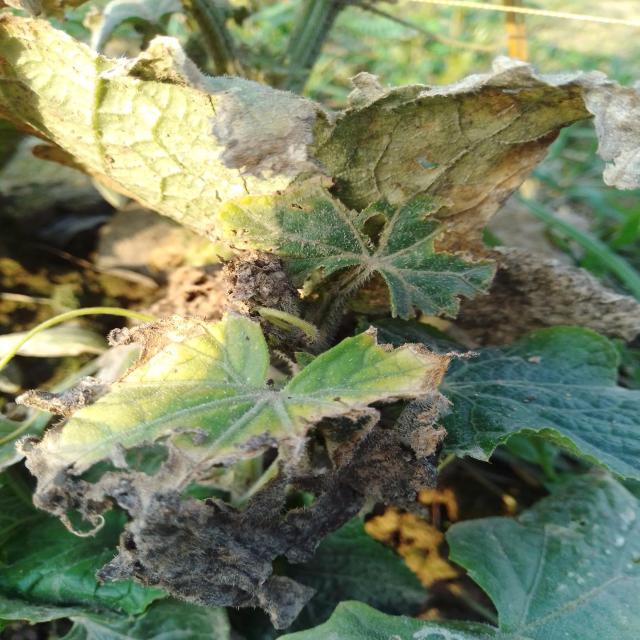cucumber_bacterial: (33, 332, 445, 640), (222, 69, 597, 327), (0, 27, 308, 250)
